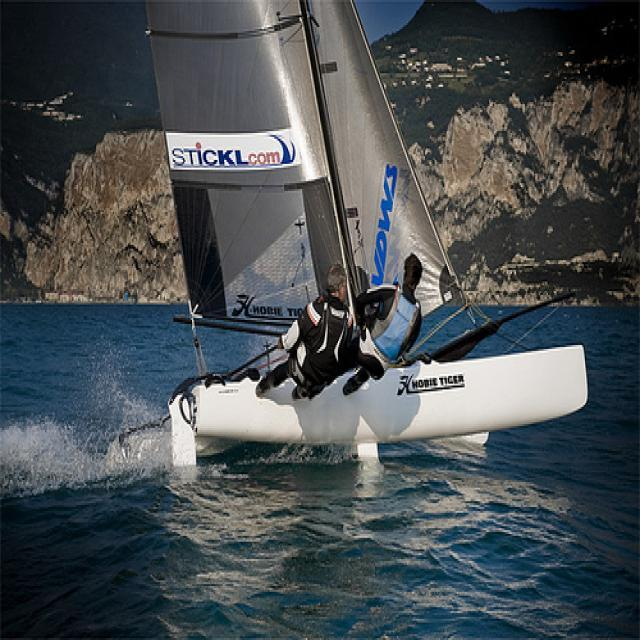Ship: (143, 3, 591, 458)
